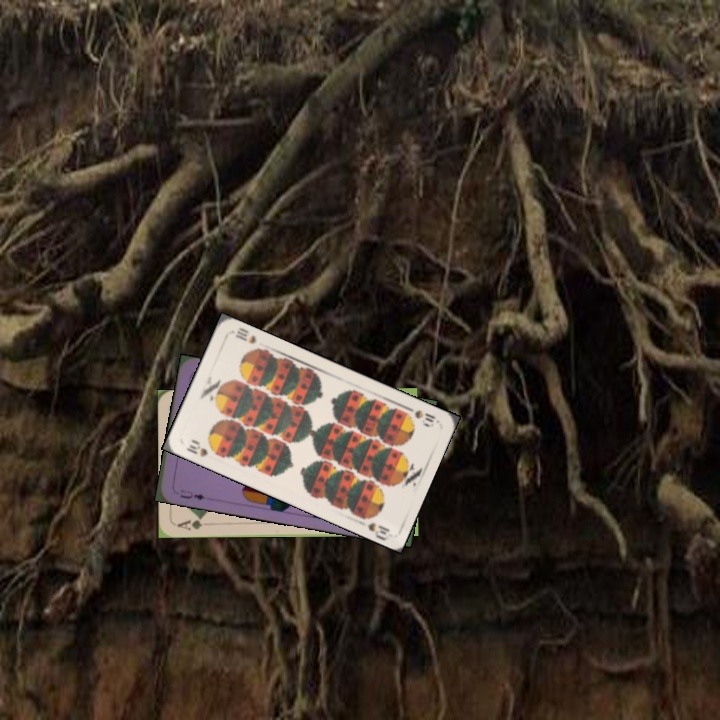EU: (176, 486, 207, 503)
GA: (174, 513, 213, 533)
S10: (182, 435, 220, 459), (410, 406, 437, 430)
